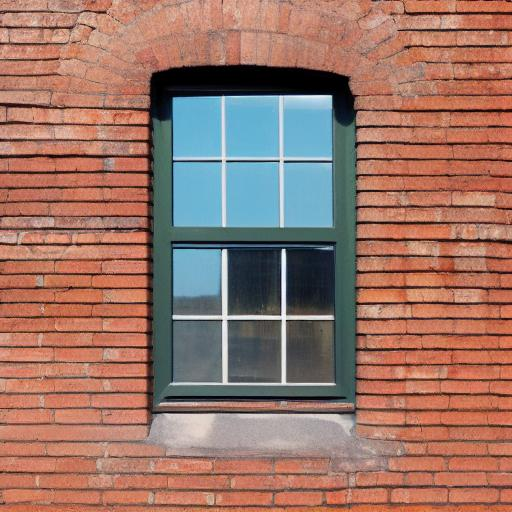Window: (149, 62, 362, 460)
